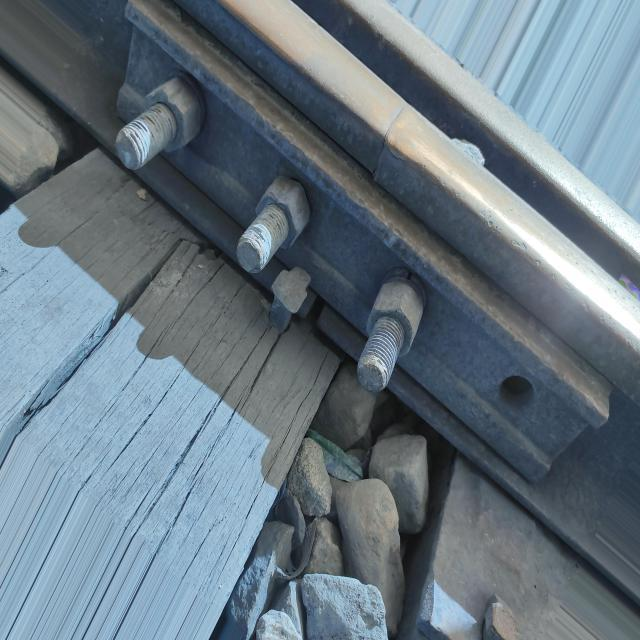Defective Joint: (70, 0, 635, 559)
